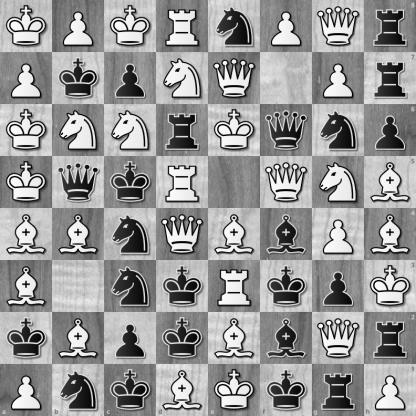B: (156, 364, 209, 416), (364, 156, 416, 209), (364, 209, 416, 260), (1, 209, 52, 260), (1, 261, 52, 312), (53, 209, 104, 260), (53, 313, 104, 364), (209, 209, 260, 260), (209, 313, 260, 364)
K: (364, 260, 416, 312), (209, 364, 260, 416), (1, 1, 52, 52), (1, 105, 52, 156), (1, 157, 52, 208), (105, 1, 156, 52), (209, 105, 260, 156)
N: (53, 105, 104, 156), (105, 105, 156, 156), (157, 53, 208, 104), (313, 157, 364, 208)
P: (0, 364, 52, 416), (364, 364, 416, 416), (1, 53, 52, 104), (53, 1, 104, 52), (261, 1, 312, 52), (313, 53, 364, 104), (313, 209, 364, 260)
Q: (157, 209, 208, 260), (209, 53, 260, 104), (261, 157, 312, 208), (313, 1, 364, 52), (313, 313, 364, 364)
R: (157, 1, 208, 52), (157, 157, 208, 208), (209, 261, 260, 312)
b: (261, 209, 312, 260), (261, 313, 312, 364)
board: (0, 0, 415, 415)
k: (104, 364, 156, 416), (260, 364, 312, 416), (1, 313, 52, 364), (53, 53, 104, 104), (105, 157, 156, 208), (157, 261, 208, 312), (157, 313, 208, 364), (261, 261, 312, 312)
n: (52, 364, 104, 416), (105, 209, 156, 260), (105, 261, 156, 312), (209, 1, 260, 52), (313, 105, 364, 156)
p: (364, 104, 416, 156), (105, 53, 156, 104), (105, 313, 156, 364), (313, 261, 364, 312)
q: (53, 157, 104, 208), (261, 105, 312, 156)
r: (312, 364, 364, 416), (364, 0, 416, 52), (364, 52, 416, 104), (364, 312, 416, 364), (157, 105, 208, 156)
